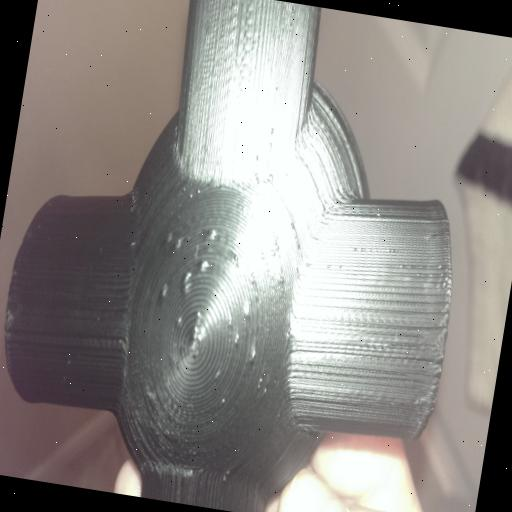blobs: (146, 217, 226, 307), (222, 278, 278, 376)
